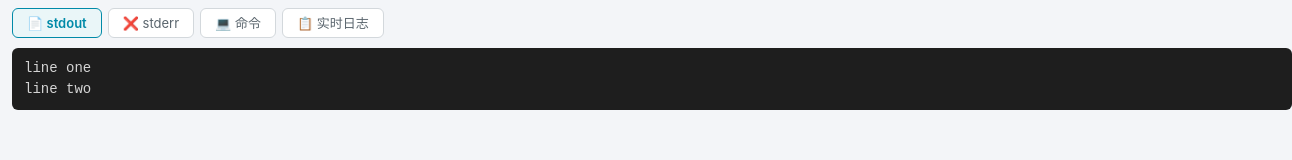
NodeTaskLogViewer › switches to stderr tab and shows stderr
Click the tab with class "ner-tab" showing "❌ stderr".
click(151, 23)  # box 108,8 -> 194,38
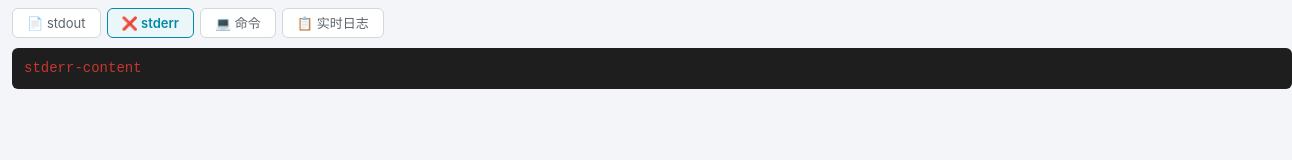
expect the text "stderr-content" is shown: met, box 24,60 -> 142,76
